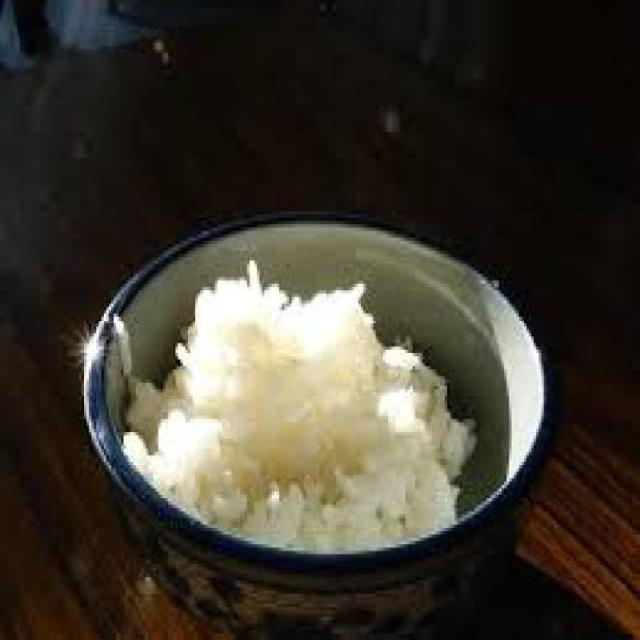rice: (126, 260, 477, 555)
